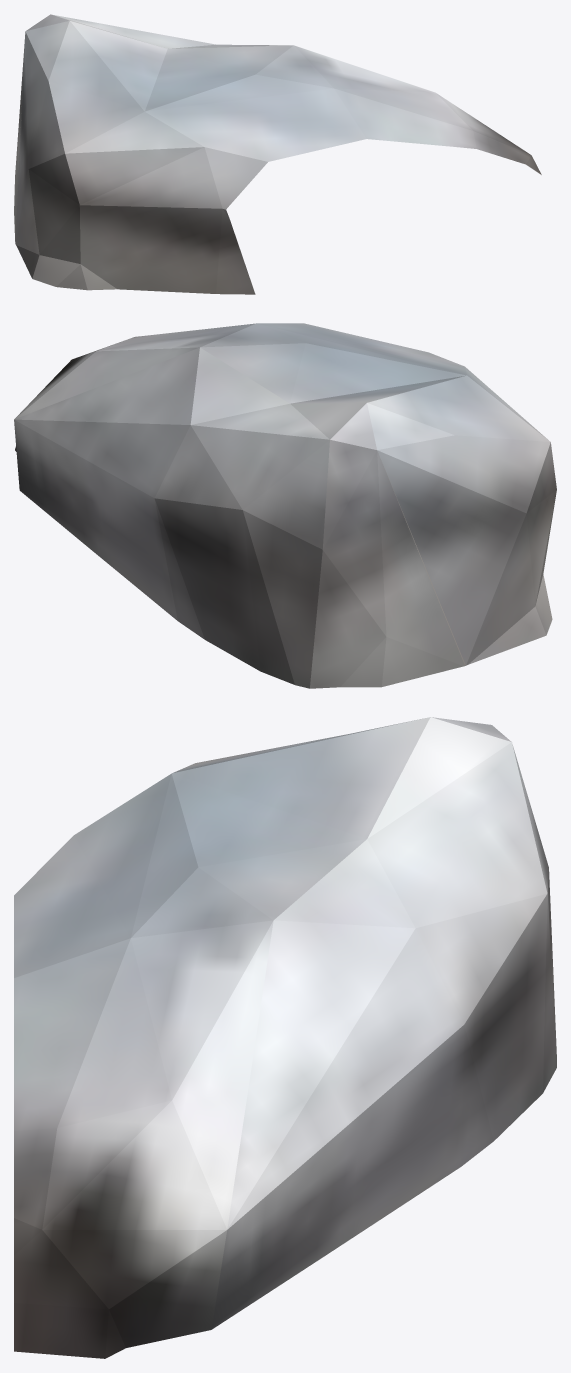
3 renders of one model, top to bottom at view 1: azimuth 30°, elevation 25°; view 2: azimuth 150°, elevation 25°; view 3: azimuth 270°, elevation 25°, orthographic. The views are drawn at different scales.
Bounding box in the file's own units: 0.5393 × 0.2217 × 0.3256.
Materials: 1 (1 with a texture image).
